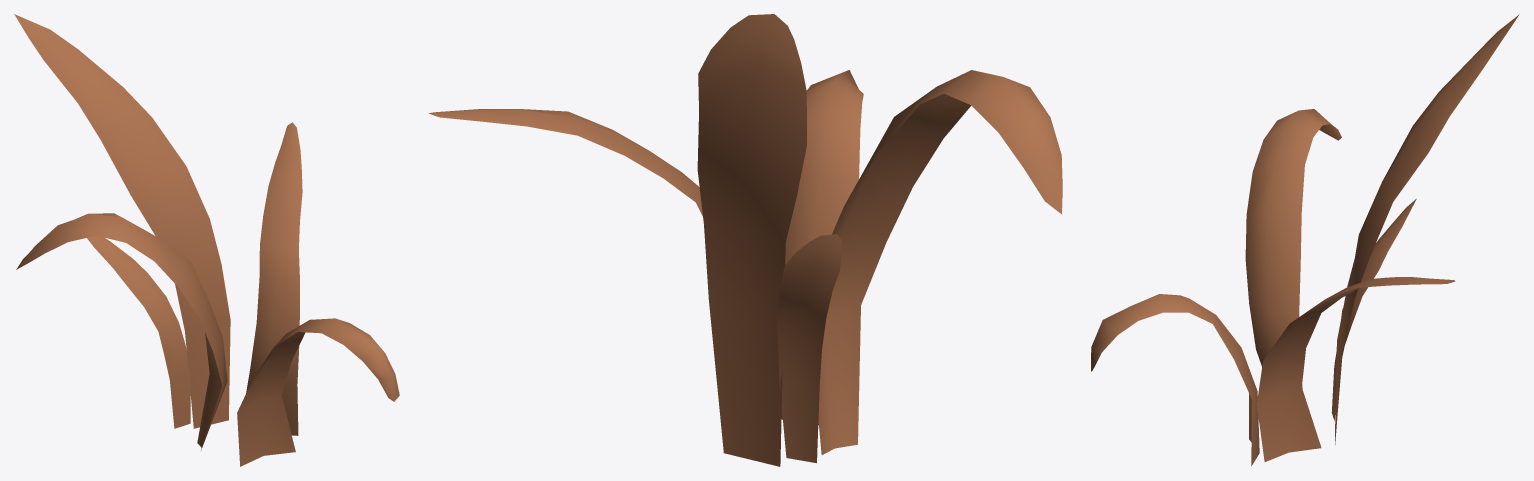
Rendered from Snake Plant.fbx.
The picture shows the model from 3 angles, left to right: view 1: azimuth 30°, elevation 25°; view 2: azimuth 150°, elevation 25°; view 3: azimuth 270°, elevation 25°; orthographic projection. The views are drawn at different scales.
Parts seen in each view (by area): view 1: Snake_Plant2; view 2: Snake_Plant2; view 3: Snake_Plant2.
Boxes of the visible parts, x1,y1,x2,y2 form: Snake_Plant2: (14, 14, 399, 466); Snake_Plant2: (429, 14, 1062, 466); Snake_Plant2: (1091, 14, 1519, 465).
Bounding box in the file's own units: 1.56 × 1.68 × 1.71.
